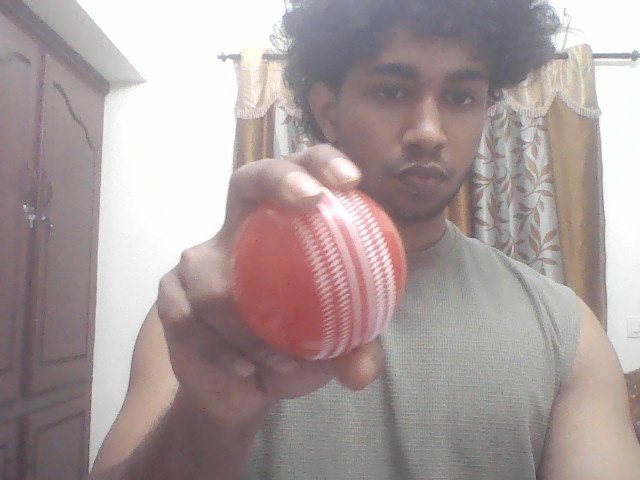cricket_ball: (218, 179, 413, 363)
